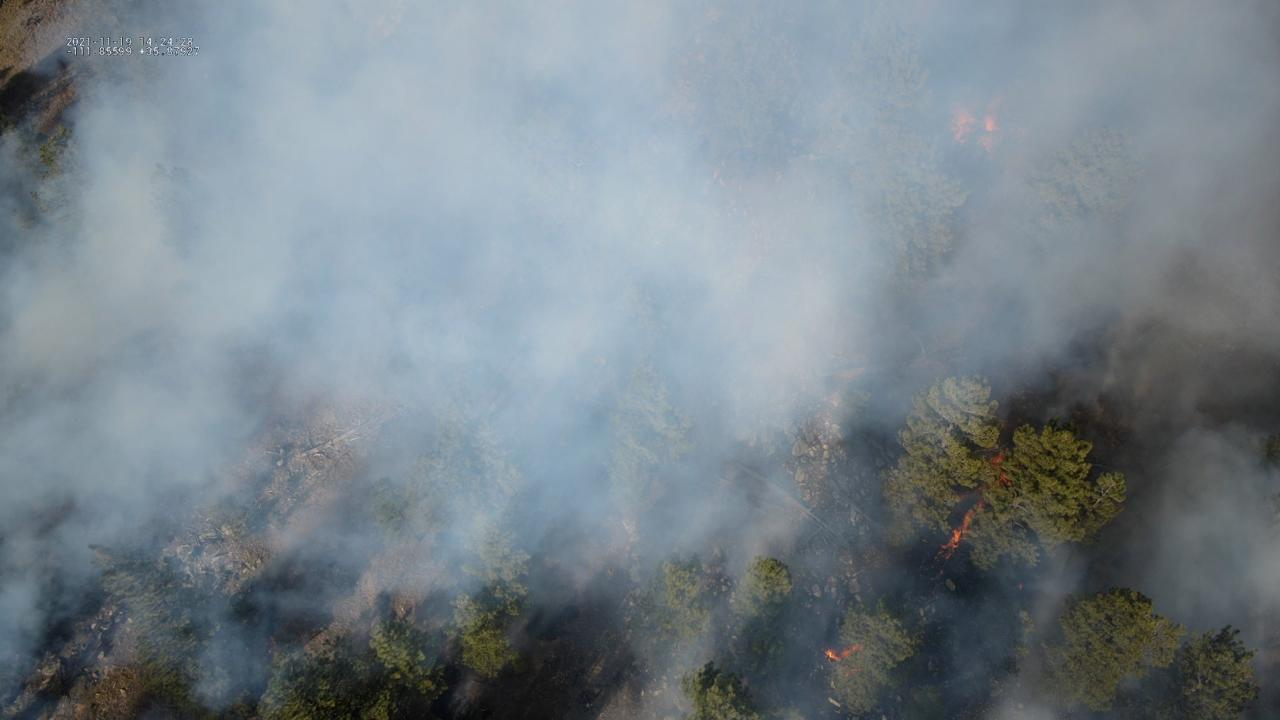fire: (937, 511, 977, 561), (951, 109, 976, 143), (824, 642, 864, 662), (990, 452, 1005, 467), (998, 472, 1010, 487), (985, 117, 994, 133), (1017, 583, 1025, 591)
smoke: (0, 0, 1280, 720)
